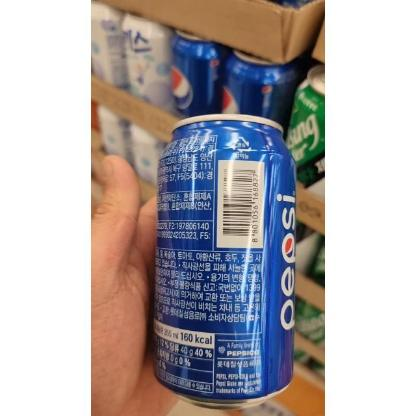Can: (156, 112, 298, 408)
